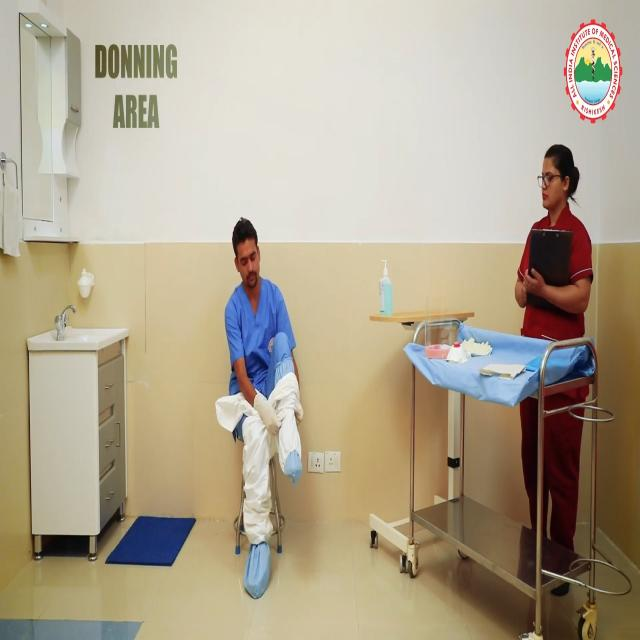Gloves: (248, 387, 286, 440)
